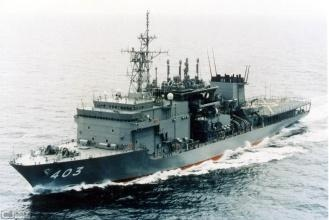warship: (7, 54, 314, 188)
